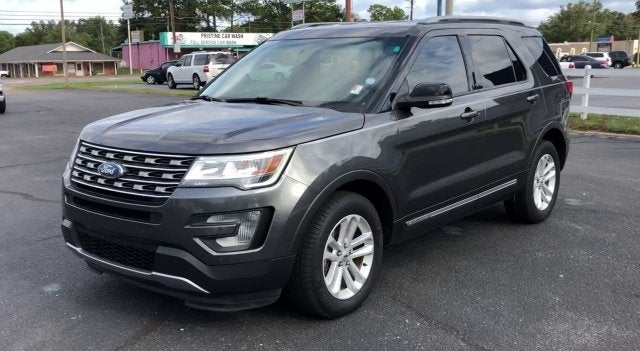Ford Explorer: (61, 17, 573, 319)
